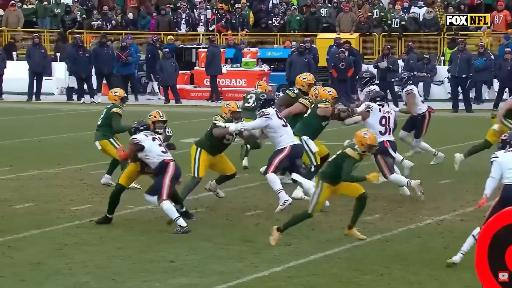Helmet: (354, 129, 376, 154), (148, 111, 167, 134), (221, 101, 241, 122), (296, 73, 315, 93), (256, 93, 275, 111), (358, 71, 375, 89), (395, 72, 413, 88), (369, 91, 387, 107), (108, 88, 125, 104), (498, 131, 511, 150), (132, 121, 150, 134), (319, 88, 337, 101), (309, 86, 322, 100), (255, 81, 268, 91)
Jersey: (247, 108, 299, 150), (318, 143, 366, 185), (195, 115, 236, 155), (130, 131, 173, 169), (294, 100, 333, 140), (484, 150, 511, 197), (365, 103, 395, 142), (95, 104, 122, 141), (402, 85, 427, 114), (490, 150, 511, 184), (285, 88, 313, 109), (242, 90, 262, 119), (360, 85, 379, 102), (502, 110, 511, 129), (162, 128, 173, 143)
Player: (270, 129, 379, 245), (241, 93, 314, 212), (118, 122, 189, 233), (359, 91, 423, 198), (182, 101, 241, 199), (396, 72, 445, 164), (294, 88, 337, 181), (455, 100, 511, 170), (293, 88, 337, 174), (95, 161, 152, 224), (95, 88, 131, 185), (476, 131, 511, 224), (276, 73, 315, 129), (344, 71, 380, 125), (242, 81, 268, 121), (357, 71, 379, 110), (358, 71, 379, 103), (315, 141, 328, 165), (309, 86, 322, 100)
